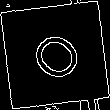O_SE: (21, 22, 89, 88)
